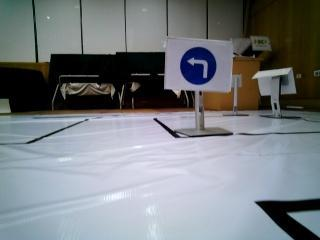left: (171, 39, 230, 92)
